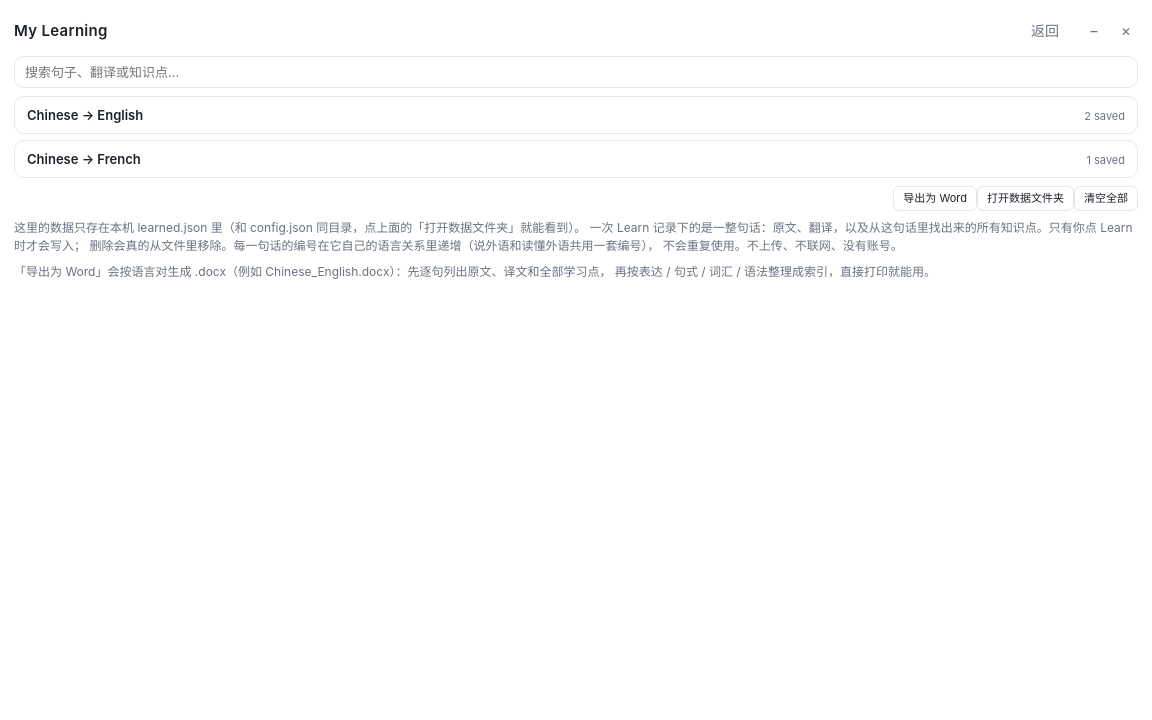
Scenario: MyLanguagePage: one pair › shows the sentence as it happened, under its id, newest first
This screenshot has width=1152, height=720.
Check: the text "Chinese → English" is shown, box 27,107 -> 143,123
Click the button "Chinese → English 2 saved" at (85, 115), box 14,96 -> 1138,134
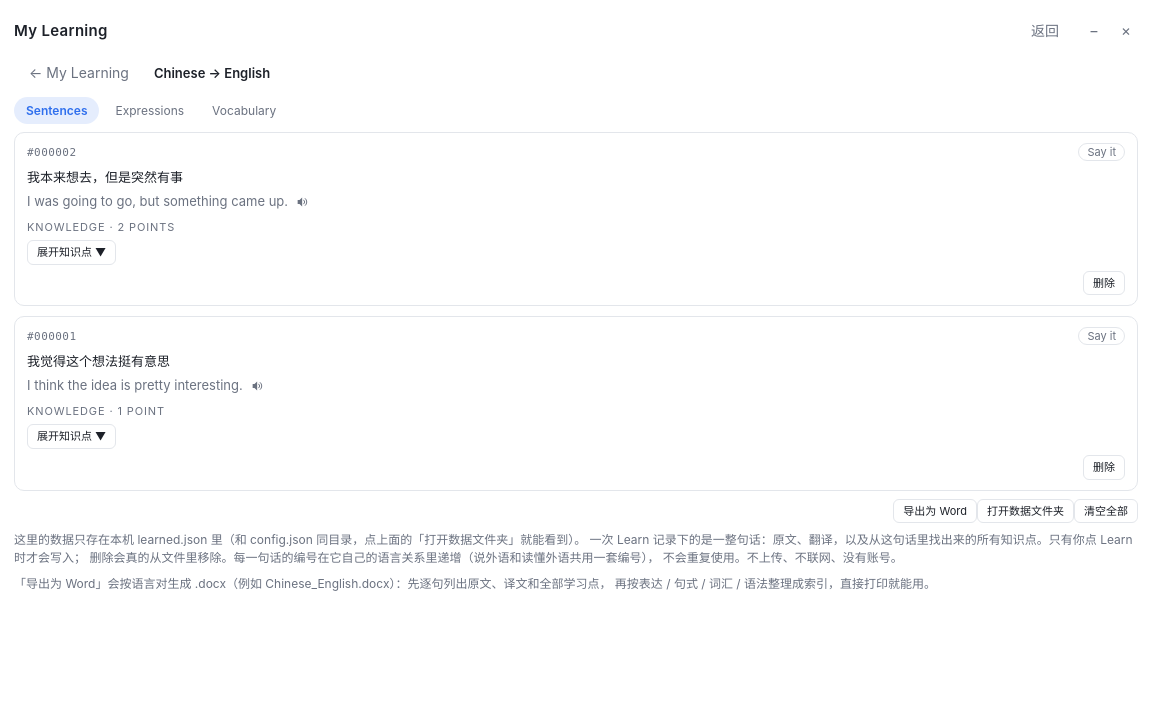
Check: the number of list items with class "language__record" is 2, box 14,132 -> 1138,306; 14,316 -> 1138,491
Check: the text "#000002" is shown, box 27,146 -> 76,159
Check: the text "#000001" is shown, box 27,330 -> 76,343
